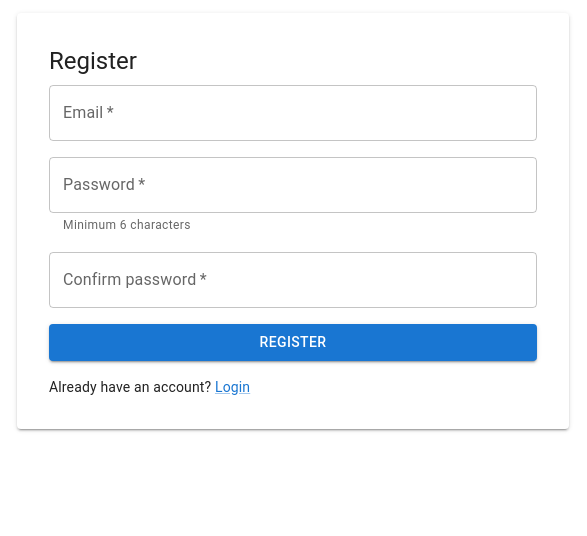
Scenario: RegisterPage › shows error when passwords do not match
Step 1. Type "user@example.com" into the field labelled "Email *" → coordinates (293, 113), box [49,85,537,141]
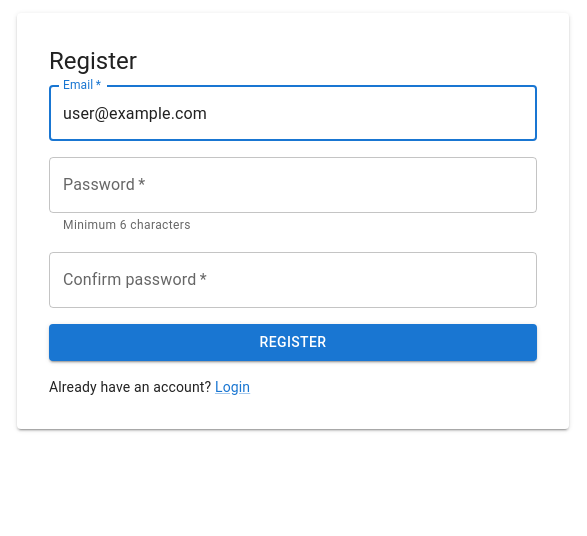
Step 2. Type "secret123" into the password field labelled "Password *" → coordinates (293, 185), box [49,157,537,213]
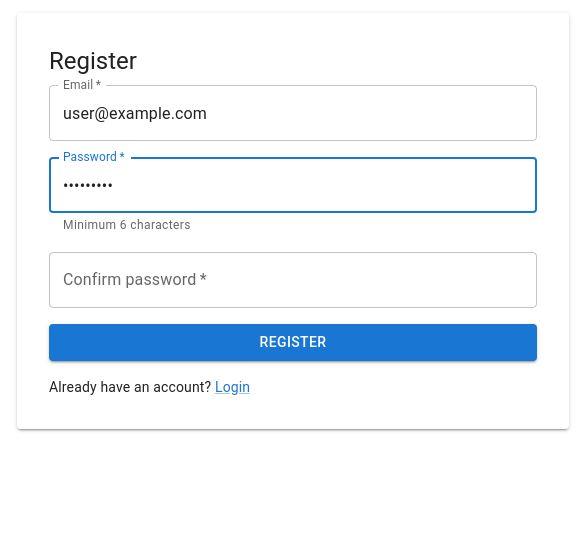
Step 3. Type "different" into the password field labelled "Confirm password *" → coordinates (293, 280), box [49,252,537,308]
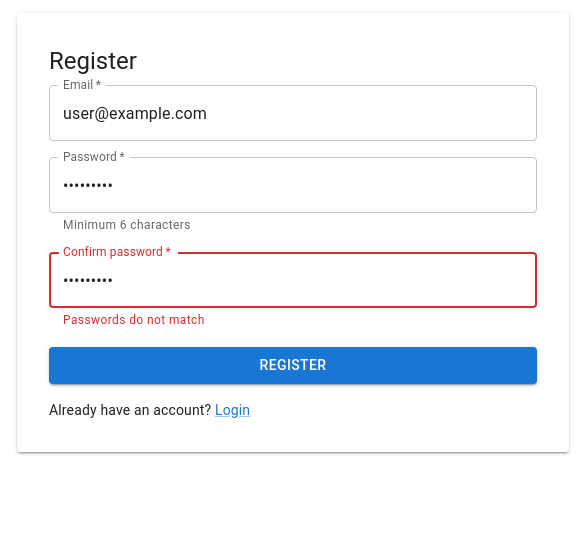
Step 4. Click the button "Register" → coordinates (293, 365), box [49,347,537,384]
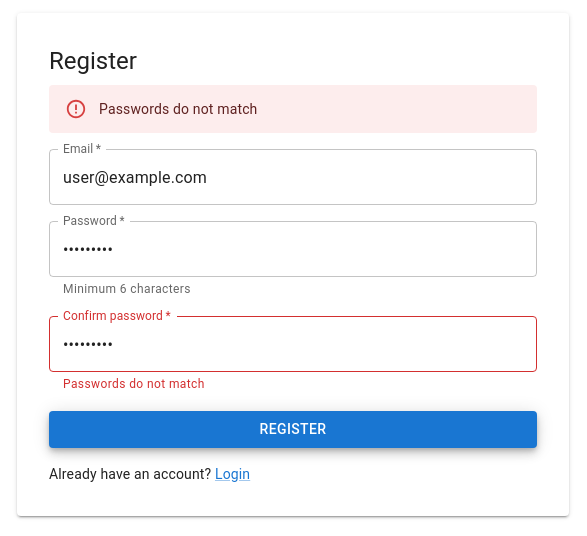
Expected: the message reads "Passwords do not match", [99,101,258,117]
